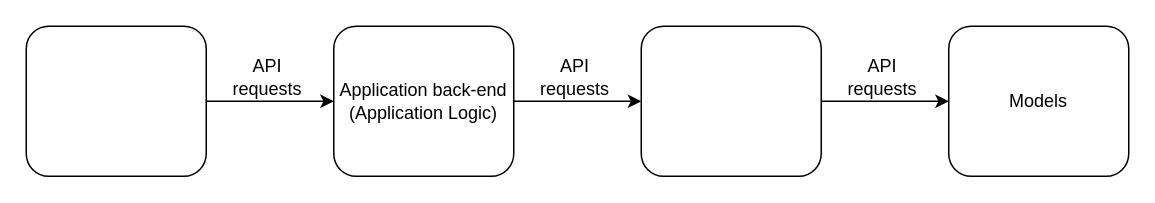
Image size: 1155x203. Some labels were removed from this diagram. The shapes that lost their labels are listed below. From the top down, each one's centre as x and y in pixels, then its label:
(x=115, y=100): Application front-end (UI)
(x=730, y=100): Scaffolding architecture for interactive narrative tasks
